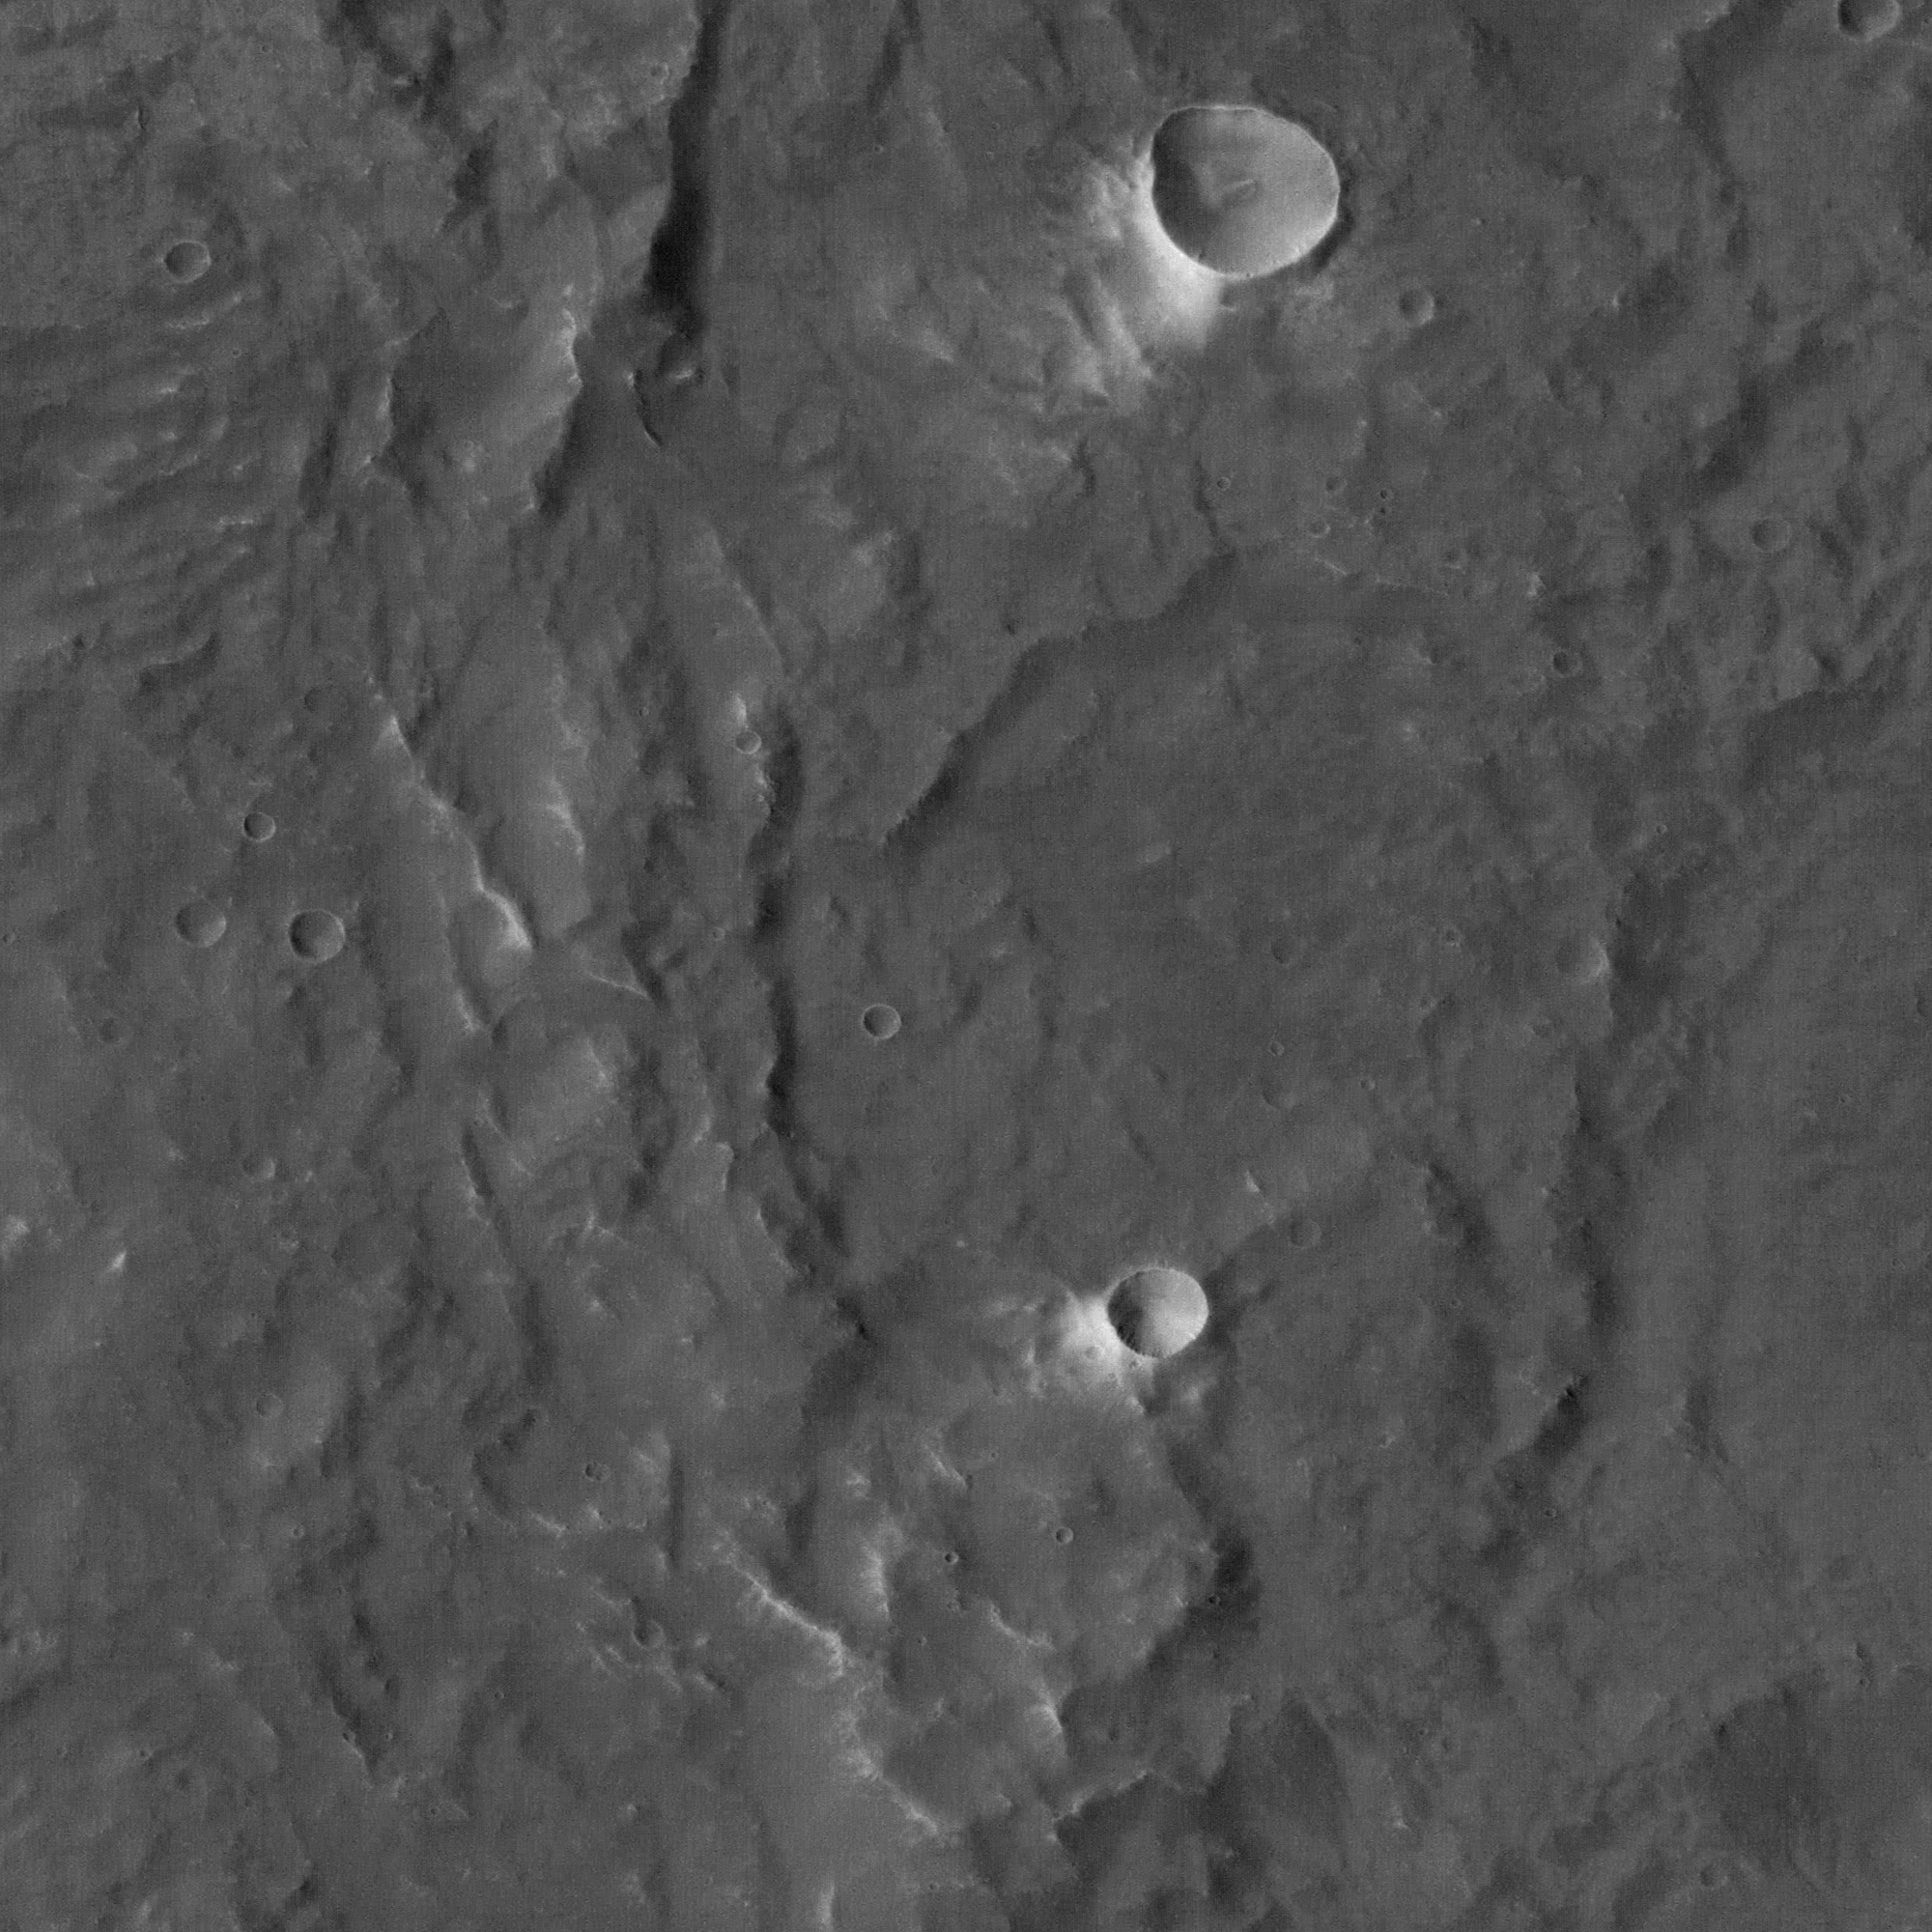crater: (1150, 101, 1336, 287), (1109, 1263, 1207, 1362), (288, 909, 343, 964), (1555, 934, 1605, 985), (175, 899, 226, 948), (165, 239, 209, 285), (658, 340, 699, 380), (1752, 513, 1790, 554), (1398, 287, 1437, 326), (863, 1003, 901, 1040), (242, 1152, 276, 1184), (1272, 932, 1304, 964), (633, 1619, 665, 1651), (244, 810, 274, 842), (306, 686, 336, 717), (99, 1016, 129, 1046), (1290, 1219, 1320, 1249), (1553, 649, 1582, 678), (255, 1392, 281, 1421), (1700, 1863, 1727, 1888), (734, 729, 761, 754), (648, 62, 672, 85), (1440, 1734, 1463, 1755), (587, 1461, 609, 1483), (1445, 548, 1467, 570), (1327, 476, 1346, 495), (1309, 518, 1327, 538), (1054, 1527, 1074, 1545), (1445, 929, 1461, 945), (1086, 1345, 1102, 1361), (1361, 1076, 1376, 1092), (1463, 584, 1479, 600), (76, 633, 92, 649), (1642, 410, 1658, 425), (1422, 994, 1437, 1010), (1269, 1042, 1284, 1054), (711, 927, 725, 939), (945, 1552, 959, 1564), (4, 931, 16, 945), (1353, 633, 1368, 646), (260, 42, 272, 55), (1380, 1435, 1392, 1447), (1242, 1412, 1254, 1424), (1217, 478, 1230, 490), (941, 1215, 954, 1228), (1026, 147, 1039, 159), (271, 1189, 283, 1201), (1545, 1507, 1557, 1518), (292, 1527, 303, 1537), (1859, 1677, 1870, 1688), (1131, 1359, 1141, 1369), (1656, 823, 1667, 833), (230, 349, 241, 359), (140, 1748, 150, 1759), (929, 1881, 939, 1891), (343, 1730, 354, 1741), (1380, 506, 1391, 517), (1208, 1594, 1219, 1605), (1380, 488, 1391, 499), (945, 122, 955, 133), (947, 1601, 957, 1612), (1476, 216, 1486, 226), (464, 441, 474, 451), (993, 1385, 1003, 1396), (1840, 1093, 1849, 1104), (874, 143, 883, 154), (57, 1746, 67, 1755), (844, 777, 855, 786), (1108, 1371, 1116, 1382), (1444, 520, 1453, 531), (1039, 1380, 1047, 1389), (639, 708, 648, 717), (713, 628, 722, 637), (1451, 1299, 1460, 1307), (883, 534, 892, 543), (333, 175, 341, 184), (888, 1624, 897, 1633), (235, 5, 244, 14), (706, 1875, 713, 1886), (386, 159, 395, 166), (200, 1095, 209, 1102), (495, 1691, 502, 1700), (384, 1734, 393, 1741), (991, 122, 1000, 129), (968, 888, 975, 897), (1421, 1727, 1428, 1736), (474, 1118, 481, 1127), (432, 1806, 439, 1815), (786, 1131, 794, 1138), (1925, 16, 1932, 25), (993, 1606, 1000, 1614), (1246, 271, 1253, 278), (985, 152, 993, 159), (918, 1637, 925, 1644), (310, 775, 317, 782), (697, 373, 704, 380), (993, 1614, 1000, 1621), (936, 727, 943, 732), (1767, 614, 1773, 621), (991, 1453, 996, 1458), (1391, 1154, 1396, 1159), (251, 1313, 257, 1318), (1431, 1300, 1437, 1306), (1568, 1569, 1571, 1575), (1683, 685, 1686, 690), (1644, 655, 1647, 660), (908, 1741, 911, 1746), (763, 1500, 768, 1504), (249, 1311, 253, 1316), (1461, 372, 1465, 375), (764, 770, 768, 773), (1458, 163, 1461, 166)
